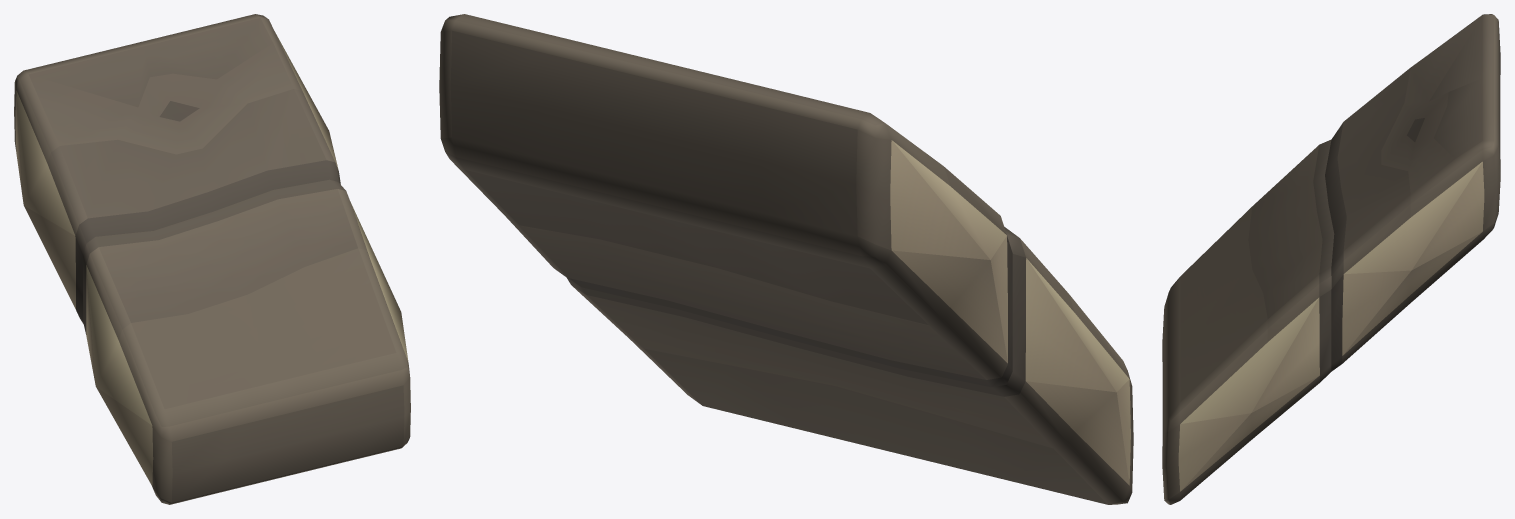
The model's file is DryWood_Slope.fbx.
3 renders of one model, left to right at view 1: azimuth 30°, elevation 25°; view 2: azimuth 150°, elevation 25°; view 3: azimuth 270°, elevation 25°, orthographic. The views are drawn at different scales.
Visible parts, largest first — view 1: DryWood_Slope_LOD0; view 2: DryWood_Slope_LOD0; view 3: DryWood_Slope_LOD0.
Part boxes in pixels (x1,y1,x2,y2): DryWood_Slope_LOD0: (14,14,410,504); DryWood_Slope_LOD0: (439,14,1133,504); DryWood_Slope_LOD0: (1162,14,1500,504).
Size of what is drawn, in the model's own units: 1.31 by 1.34 by 1.13.
